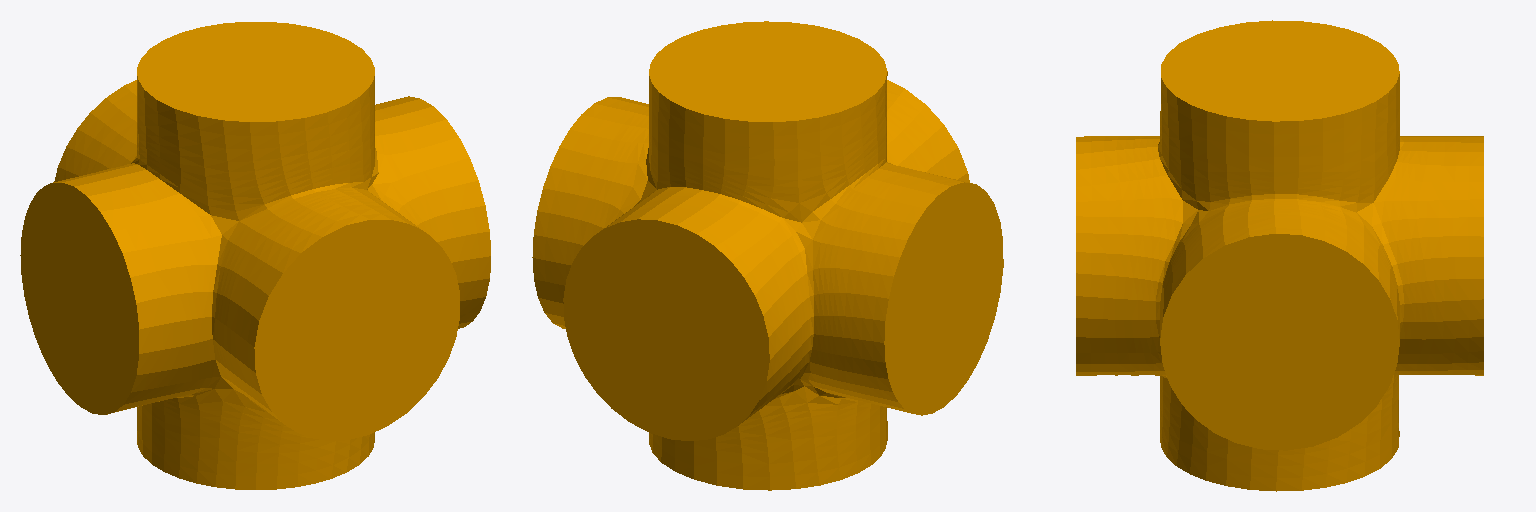
URDF robot description (object):
<robot name="object">
  <link name="object">
    <visual>
      <origin xyz="0 0 0"/>
      <geometry>
        <mesh filename="visual.obj" scale="1 1 1"/>
      </geometry>
    </visual>
    <collision>
      <origin xyz="0 0 0"/>
      <geometry>
        <mesh filename="visual.obj" scale="1 1 1"/>
      </geometry>
    </collision>
    <inertial>
      <mass value="0.05"/>
      <inertia ixx="4.881655703184188e-05" iyy="4.880721590197938e-05" izz="4.881835659954011e-05" ixy="1.0682395125028175e-08" ixz="-9.463000281742943e-09" iyz="-8.72352564293243e-09"/>
    </inertial>
  </link>
</robot>

--- What the picture shows (computed from the rendered views, not written in the file) ---
The picture shows the robot from 3 angles, left to right: view 1: azimuth 30°, elevation 25°; view 2: azimuth 150°, elevation 25°; view 3: azimuth 270°, elevation 25°; orthographic projection.
Robot: object — 1 links, 0 joints (none); root link object; default pose: all joints at 0.
Links seen in each view (by area): view 1: object; view 2: object; view 3: object.
Link boxes in pixels (box(x1,y1,x2,y2)): object: box(20, 22, 490, 489); object: box(532, 21, 1003, 490); object: box(1076, 20, 1483, 491).
Bounding box of the posed robot: 0.096 × 0.096 × 0.096 m (x, y, z).
1 mesh visuals loaded from 1 distinct referenced files (1 OBJ).
